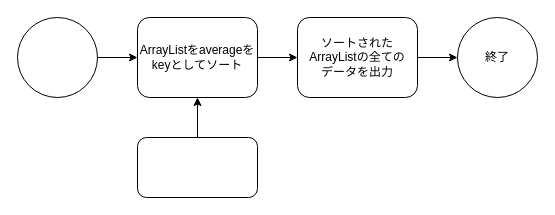
Some shapes in this 555 by 215 pixel diagram are drawn without their labels. Each missing label, with the centre of its shape:
"Scoreから Averageを計算" goes at [197,167].
"開始" goes at [57,57].
